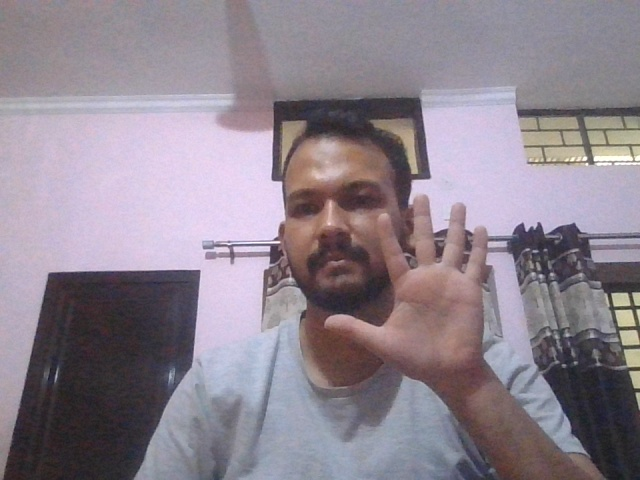hello: (324, 194, 487, 383)
